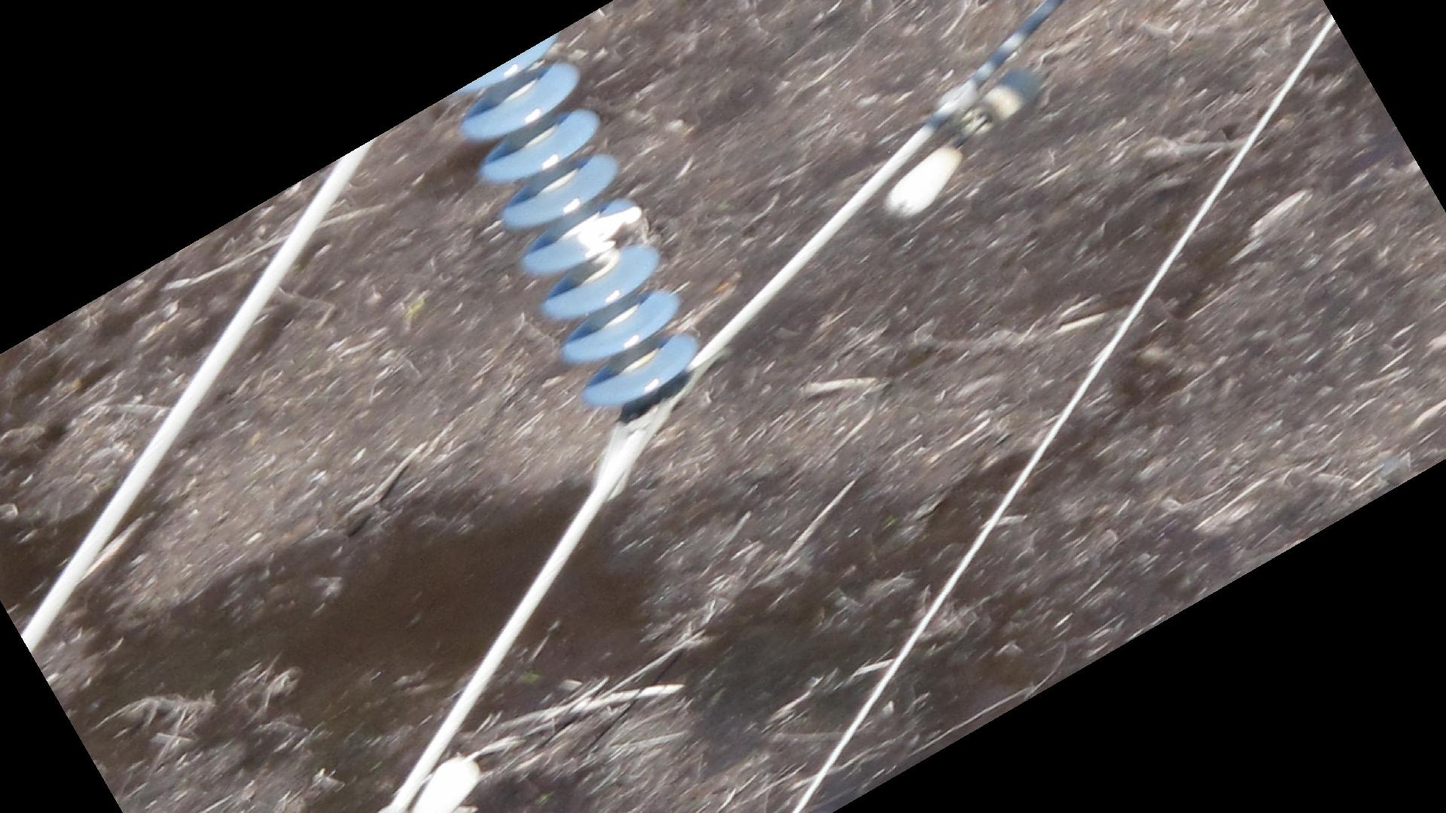insulator: (447, 33, 708, 416)
insulator_breakage: (573, 199, 648, 264)
